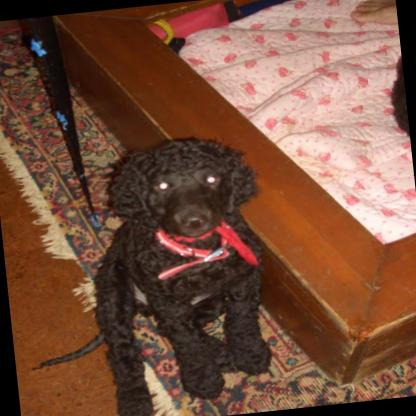Irish_water_spaniel: (6, 128, 281, 416)
